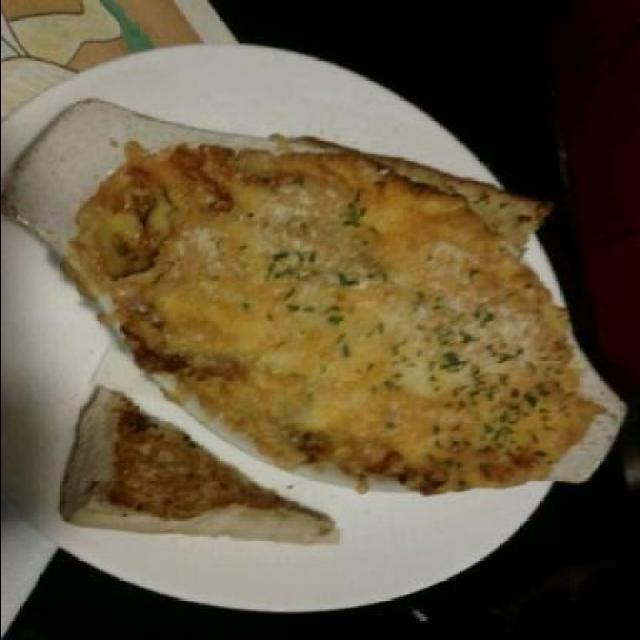Lasagna: (100, 132, 576, 450)
